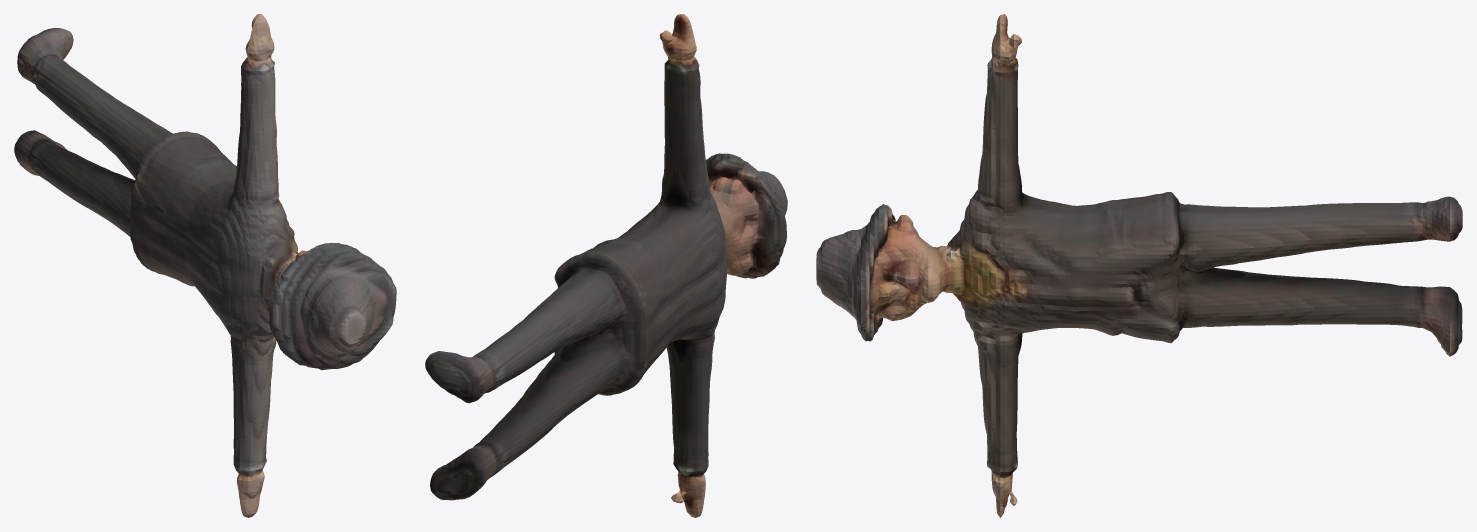
File: koins.glb
3 renders of one model, left to right at view 1: azimuth 30°, elevation 25°; view 2: azimuth 150°, elevation 25°; view 3: azimuth 270°, elevation 25°, orthographic.
Visible parts, largest first — view 1: geometry_0; view 2: geometry_0; view 3: geometry_0.
Part boxes in pixels (x1=…): geometry_0: x1=14, y1=14, x2=396, y2=517; geometry_0: x1=425, y1=14, x2=787, y2=517; geometry_0: x1=816, y1=14, x2=1462, y2=517.
Bounding box in the file's own units: 0.2044 × 0.8507 × 0.9816.
